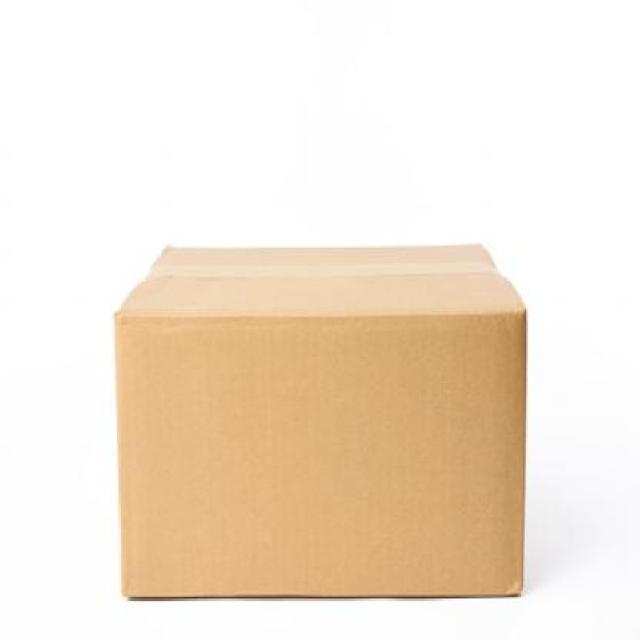cardboxes: (112, 242, 530, 598)
